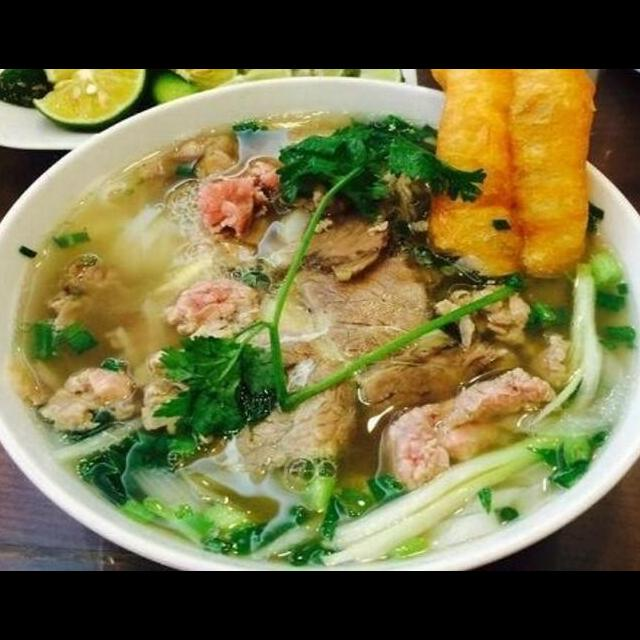thit bo: (218, 179, 438, 490), (371, 363, 557, 491), (160, 274, 263, 352), (39, 363, 139, 439), (196, 158, 287, 239), (432, 280, 531, 353), (36, 250, 120, 333)
